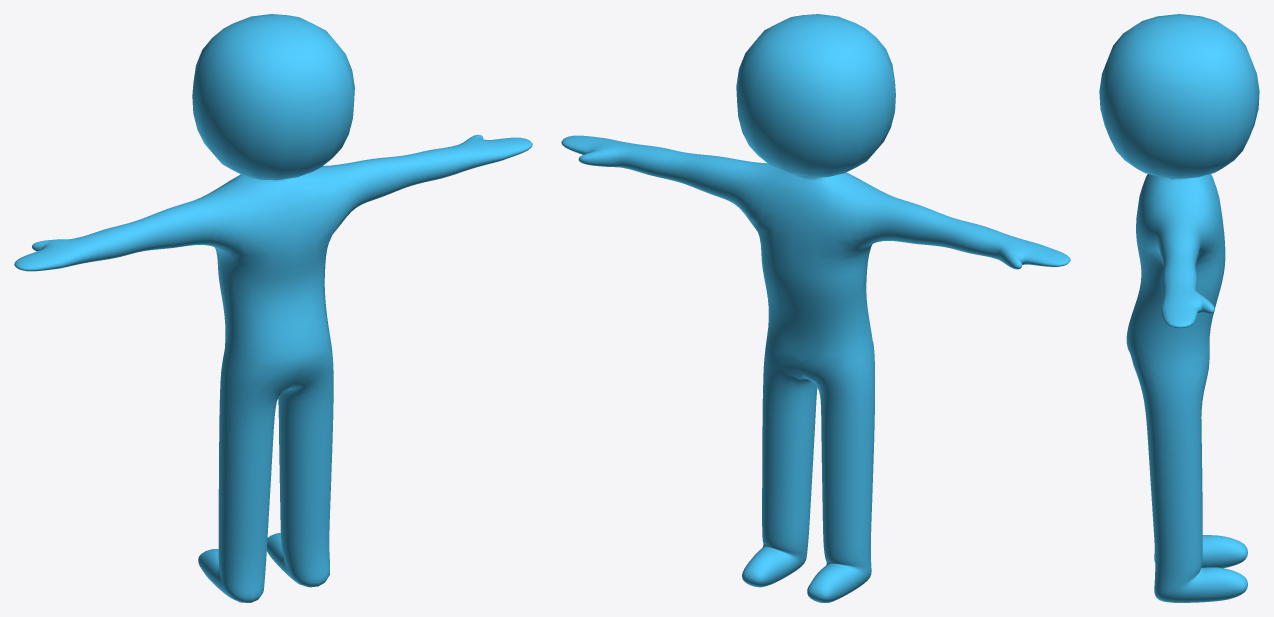
Rendered from Hyper-Casual-Character.fbx.
The picture shows the model from 3 angles, left to right: view 1: azimuth 30°, elevation 25°; view 2: azimuth 150°, elevation 25°; view 3: azimuth 270°, elevation 25°; orthographic projection.
Parts seen in each view (by area): view 1: Hyper Casual Character; view 2: Hyper Casual Character; view 3: Hyper Casual Character.
Part boxes in pixels (<box>): Hyper Casual Character: <box>14,14,532,602</box>; Hyper Casual Character: <box>561,14,1070,602</box>; Hyper Casual Character: <box>1099,14,1259,602</box>.
Bounding box in the file's own units: 446 × 121 × 468.
